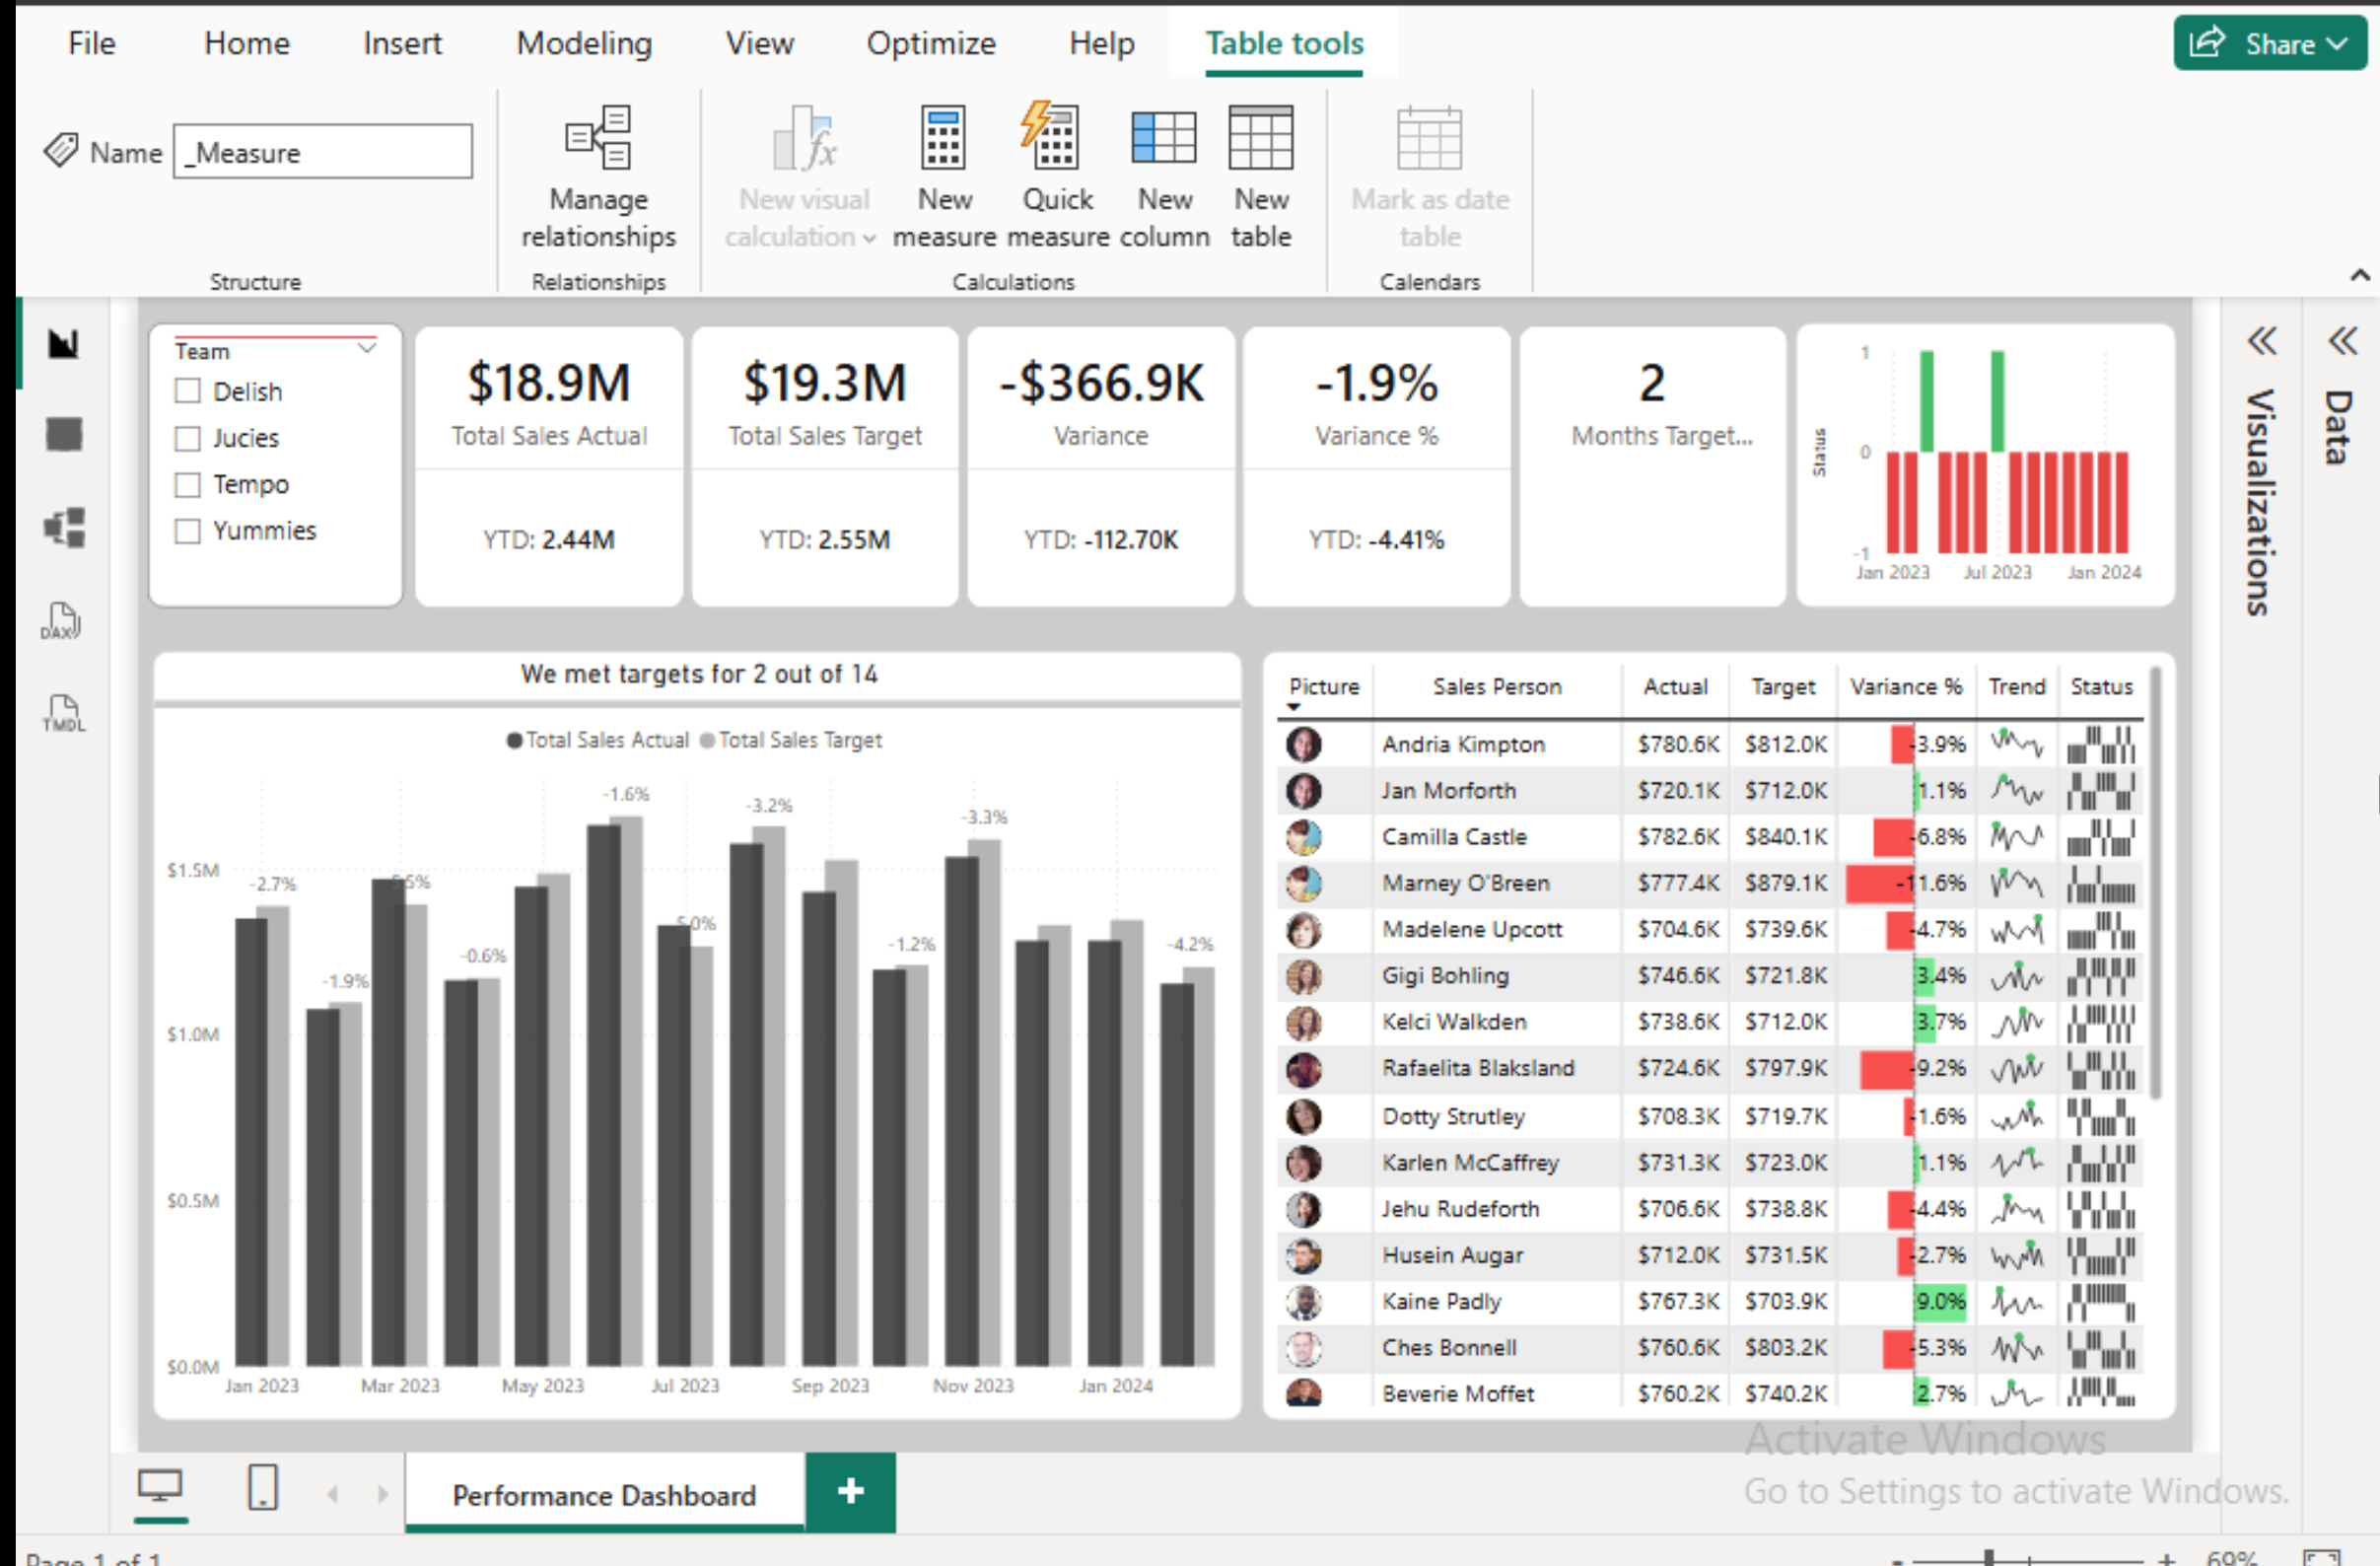

The dashboard page shown, as its layout file describes it:
{"tool":"powerbi","page":{"name":"Performance Dashboard","canvas":[1280,720],"ordinal":0},"visuals":[{"type":"cardVisual","fields":{"Data":["_Measure.Total Sales Actual","_Measure.Total Sales Target","_Measure.Variance","_Measure.Variance %","_Measure.Months Target Reached"]},"box":[162.8,8.2,876,195.8],"z":0},{"type":"clusteredColumnChart","fields":{"Category":["Calendar.Date"],"Y":["_Measure.Target Status"]},"box":[1033,16.5,238,178],"z":1000},{"type":"clusteredColumnChart","fields":{"Category":["Calendar.Date"],"Y":["_Measure.Total Sales Actual","_Measure.Total Sales Target"]},"box":[8,220.5,680.2,480.3],"z":2000},{"type":"slicer","fields":{"Values":["dimPeople.Team"]},"box":[5.8,16,160,178],"z":3000},{"type":"tableEx","fields":{"Values":["dimPeople.Picture","dimPeople.Sales person","_Measure.Total Sales Actual","_Measure.Total Sales Target","_Measure.Variance %","SparklineData(_Measure.Total Sales Actual_[Calendar.Date])","SparklineData(_Measure.Target Status_[Calendar.Date])"]},"box":[700,220.5,571,480.3],"z":4000}]}

Visuals, with their boxes on the page's 1280x720 design canvas (x1, y1, x2, y2). These are canvas units, not pixel positions in the 2380x1566 screenshot, which may show the page scaled, cropped or inside an application window:
cardVisual - _Measure.Total Sales Actual x _Measure.Total Sales Target: {"left": 163, "top": 8, "right": 1039, "bottom": 204}
clusteredColumnChart - Calendar.Date x _Measure.Target Status: {"left": 1033, "top": 16, "right": 1271, "bottom": 194}
clusteredColumnChart - Calendar.Date x _Measure.Total Sales Actual: {"left": 8, "top": 220, "right": 688, "bottom": 701}
slicer - dimPeople.Team: {"left": 6, "top": 16, "right": 166, "bottom": 194}
tableEx - dimPeople.Picture x dimPeople.Sales person: {"left": 700, "top": 220, "right": 1271, "bottom": 701}
